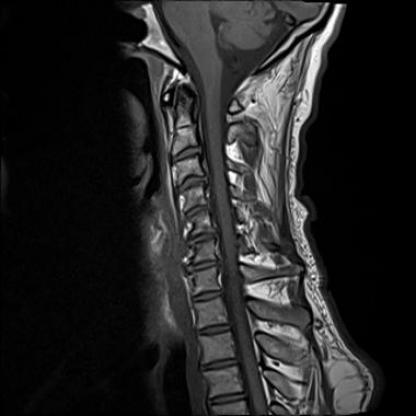Disc Bulgerotation: (169, 145, 204, 164), (174, 174, 211, 190), (187, 231, 220, 246), (188, 259, 221, 273), (179, 205, 213, 216)
Disc Protrusionrotation: (169, 145, 204, 164), (188, 231, 221, 246), (188, 258, 221, 272), (180, 205, 214, 216)
